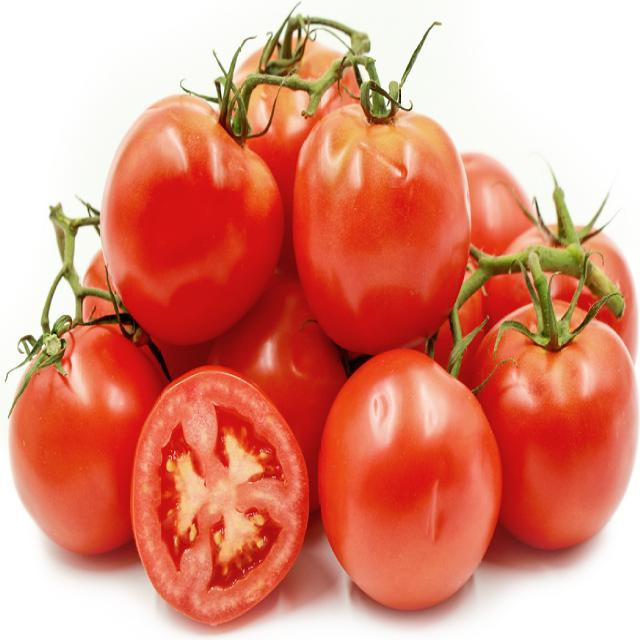kirmizi: (60, 96, 568, 588)
